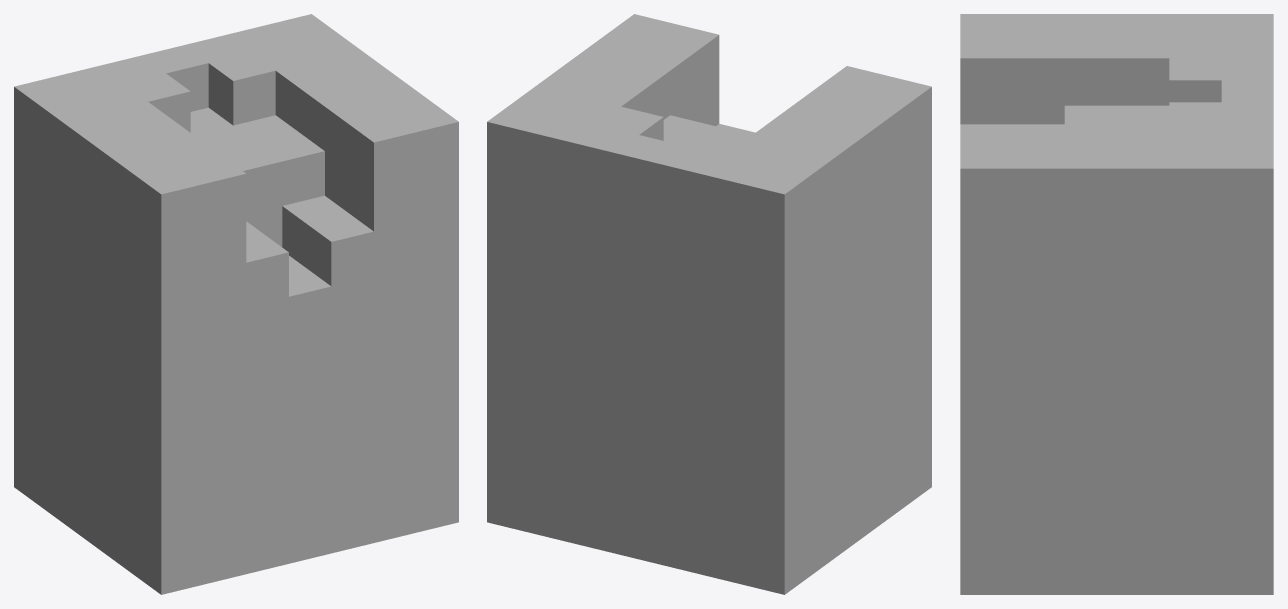
File: Matrix_22.fbx
The picture shows the model from 3 angles, left to right: view 1: azimuth 30°, elevation 25°; view 2: azimuth 150°, elevation 25°; view 3: azimuth 270°, elevation 25°; orthographic projection. The views are drawn at different scales.
Visible parts, largest first — view 1: Matrix_22; view 2: Matrix_22; view 3: Matrix_22.
Boxes of the visible parts, box(x1,y1,x2,y2) form: Matrix_22: box(14, 14, 458, 594); Matrix_22: box(487, 14, 931, 594); Matrix_22: box(960, 14, 1273, 594).
Bounding box in the file's own units: 7 × 9 × 6.
1 material, 1 textured.
